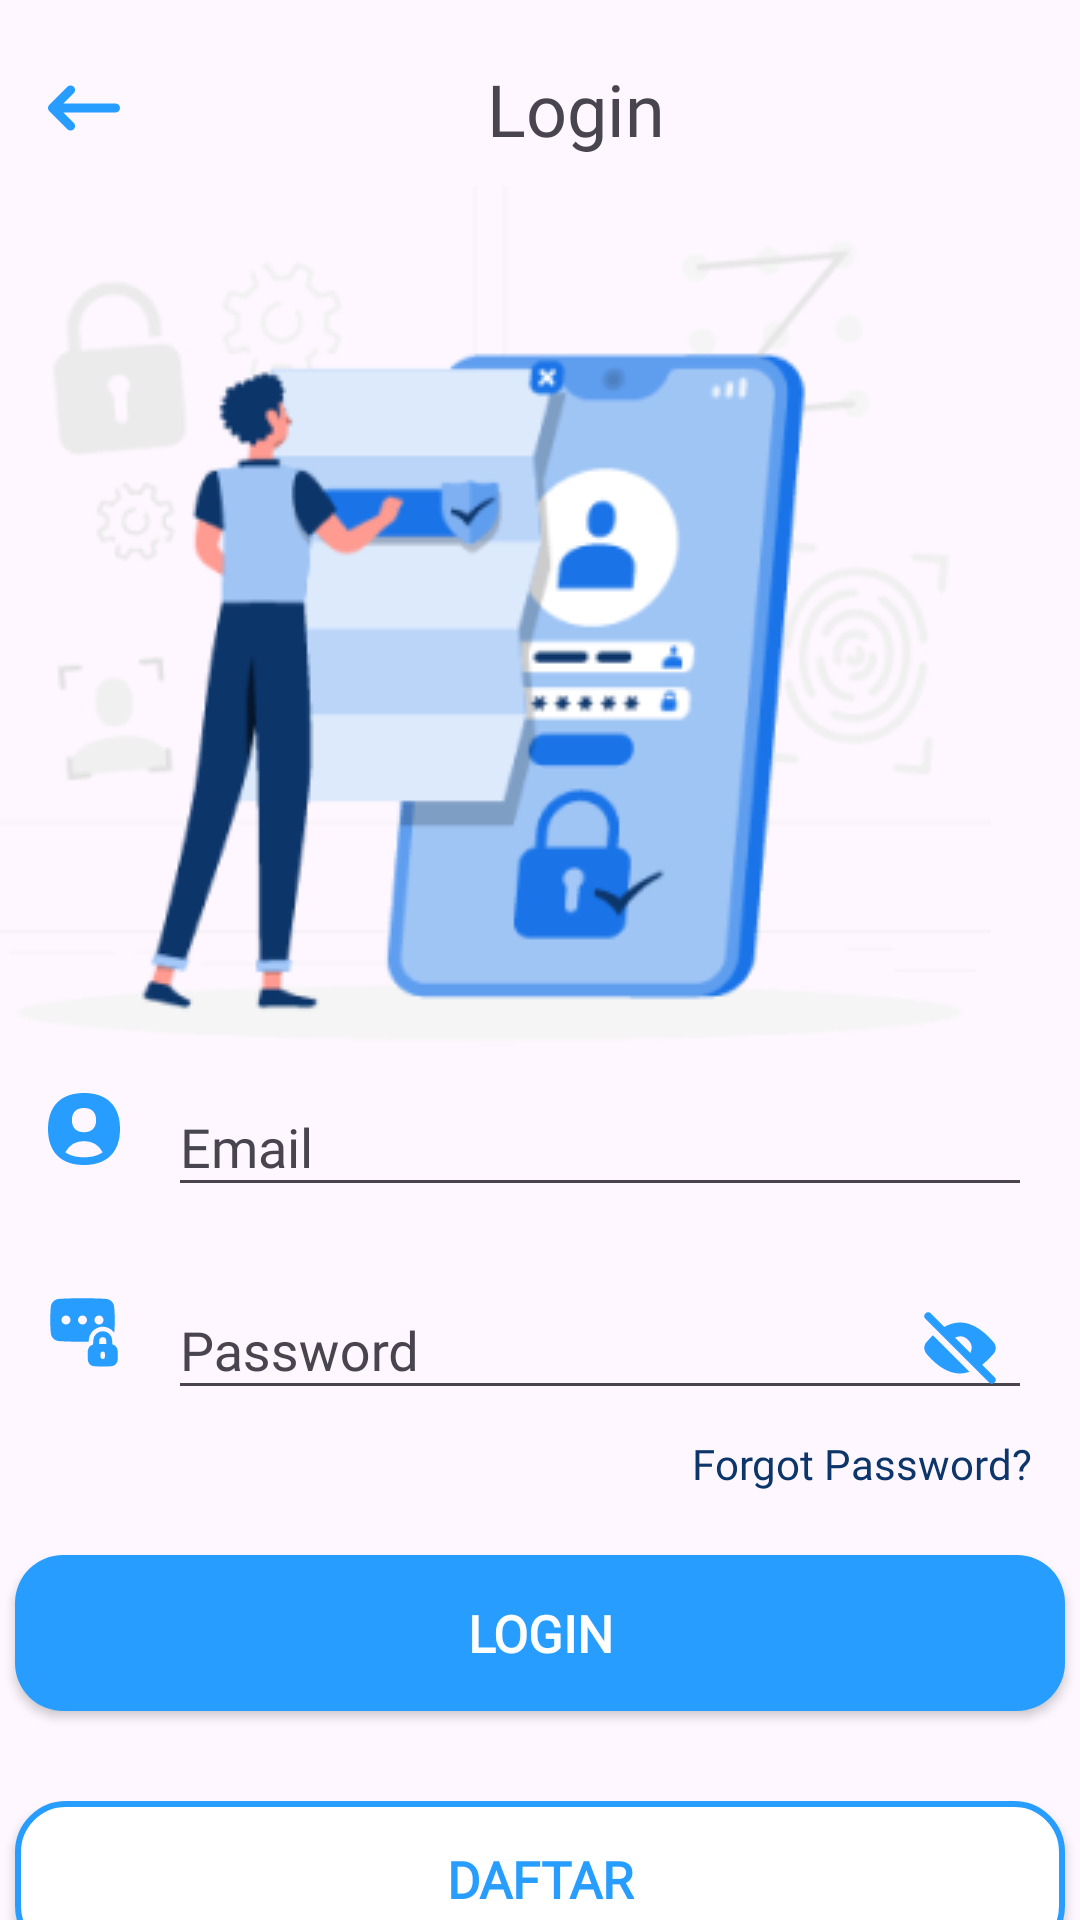

Point at icon controls on the screen. Image size 1080×1920, points as (x=x, y=y).
Button Back: (x=84, y=108)
Icon Username: (x=84, y=1129)
